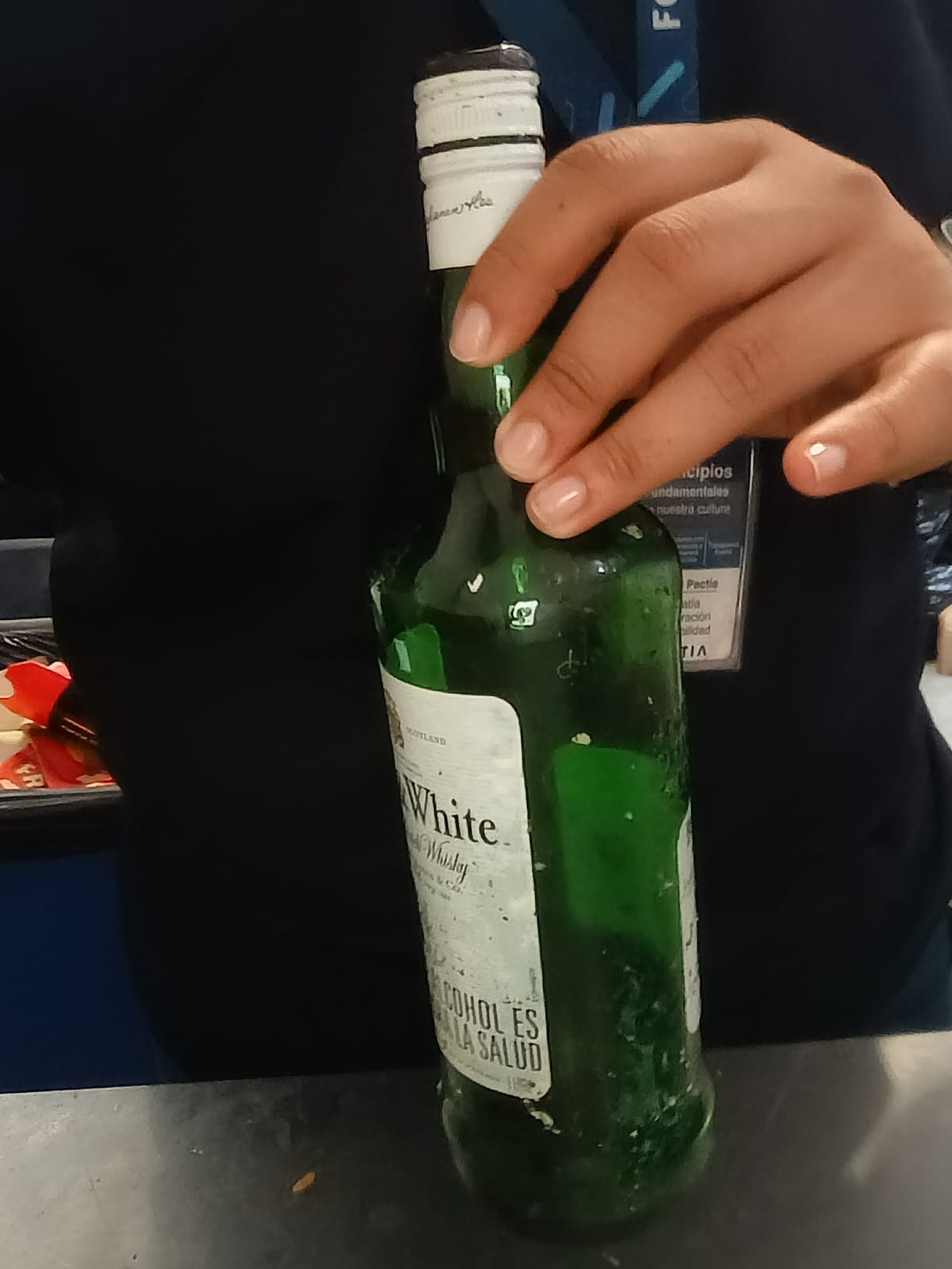Vidrio: (381, 46, 717, 1241)
